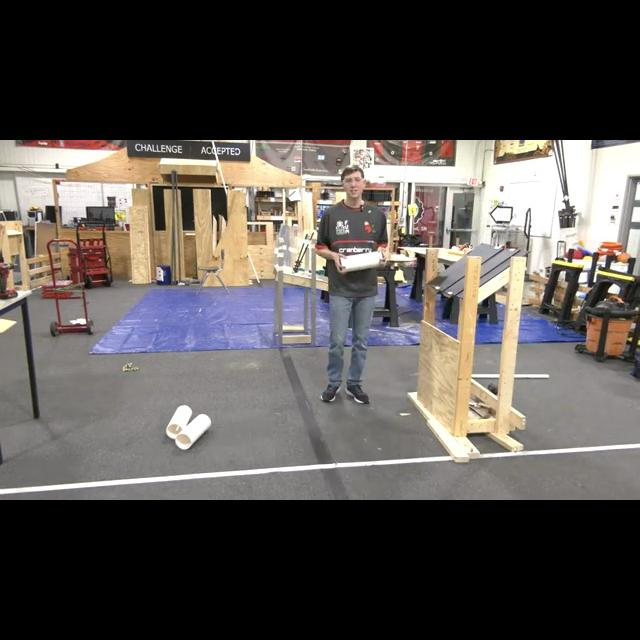CORAL: (173, 412, 210, 450), (340, 252, 384, 276), (164, 403, 192, 439)
